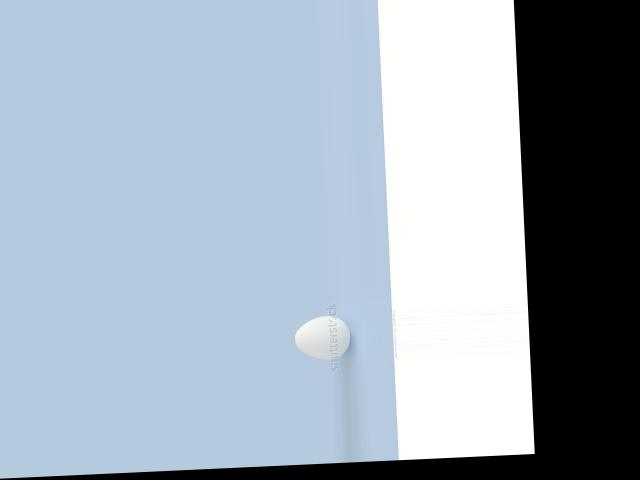egg: (293, 314, 351, 360)
